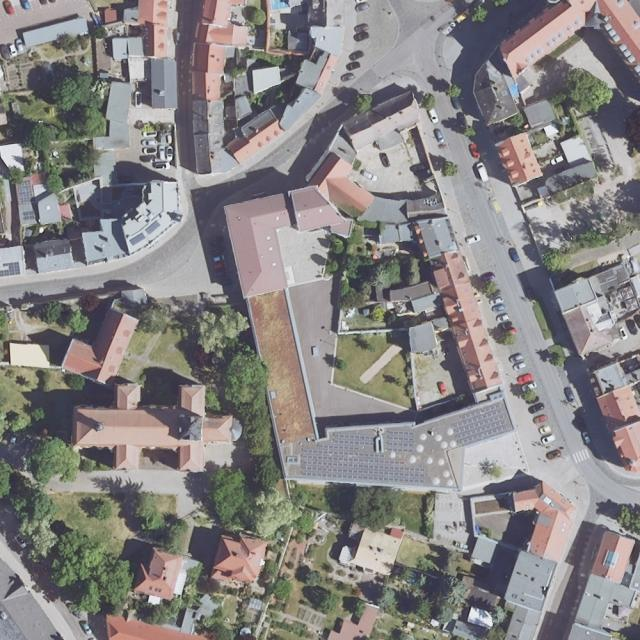PV: (301, 435, 425, 485), (387, 431, 414, 452), (17, 180, 34, 205), (0, 262, 20, 277), (145, 220, 161, 235), (131, 232, 145, 245), (21, 210, 36, 221)
